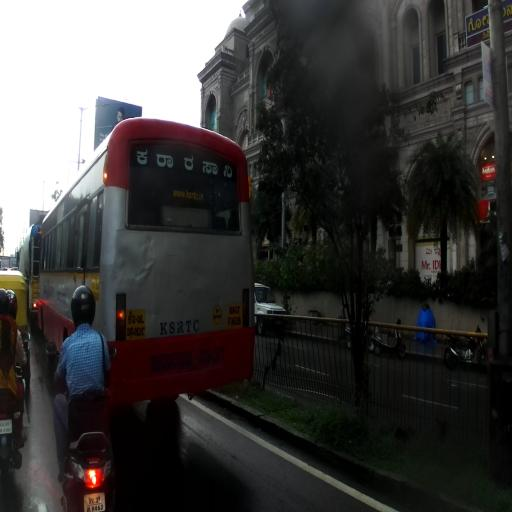street_light_0: (80, 104, 110, 116)
